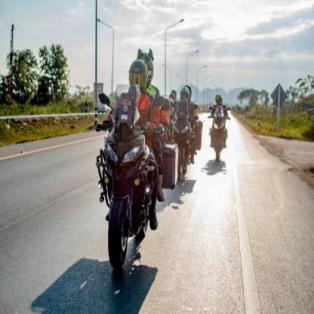Motocicleta: (94, 104, 157, 292), (205, 103, 231, 163)
